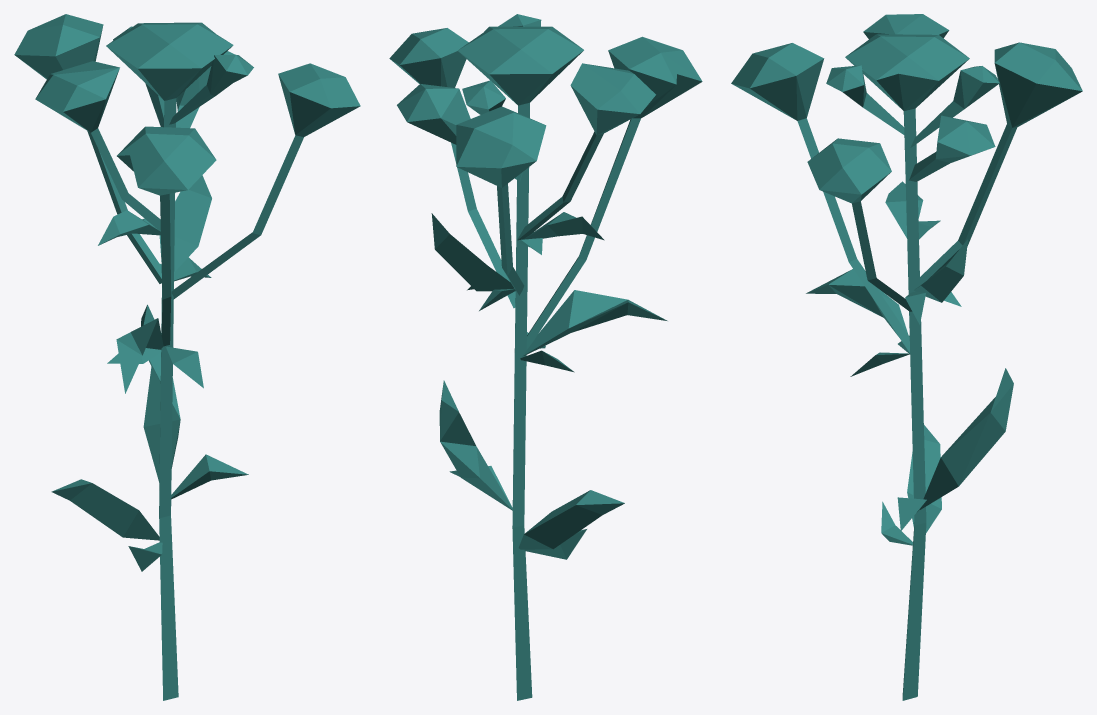
The model's file is SM_Flower_Yarrow_Single_Mature_A.fbx.
3 renders of one model, left to right at view 1: azimuth 30°, elevation 25°; view 2: azimuth 150°, elevation 25°; view 3: azimuth 270°, elevation 25°, orthographic.
Parts seen in each view (by area): view 1: flower-yarrow-single-mature-a; view 2: flower-yarrow-single-mature-a; view 3: flower-yarrow-single-mature-a.
Part boxes in pixels (x1,y1,x2,y2): flower-yarrow-single-mature-a: (14,14,360,700); flower-yarrow-single-mature-a: (389,14,702,700); flower-yarrow-single-mature-a: (731,14,1082,700).
Bounding box in the file's own units: 0.3473 × 0.7805 × 0.3802.
